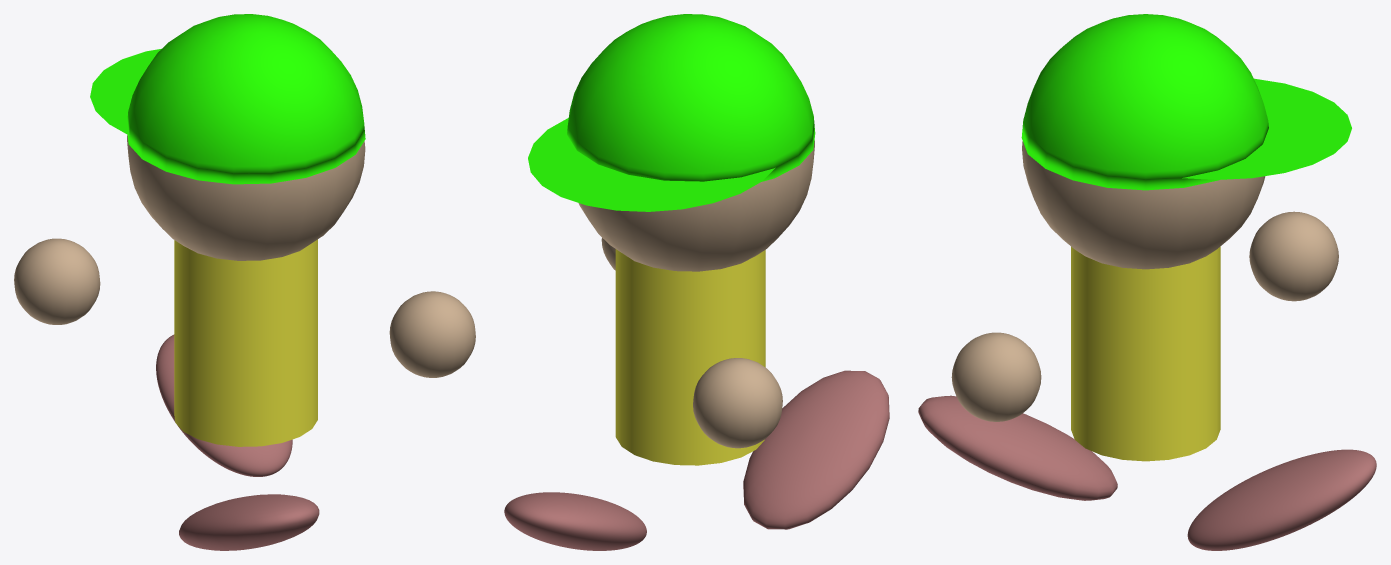
File: Player2Migi.fbx
The picture shows the model from 3 angles, left to right: view 1: azimuth 30°, elevation 25°; view 2: azimuth 150°, elevation 25°; view 3: azimuth 270°, elevation 25°; orthographic projection. The views are drawn at different scales.
Visible parts, largest first — view 1: pSphere7, pCylinder1, pSphere1, pSphere3, pSphere2, pSphere5, pSphere6, pDisc1; view 2: pSphere7, pCylinder1, pSphere3, pSphere1, pDisc1, pSphere5, pSphere6; view 3: pSphere7, pCylinder1, pSphere1, pSphere6, pSphere3, pDisc1, pSphere2, pSphere5.
Part boxes in pixels (left/top/right/bottom): pSphere7: left=127, top=14, right=365, bottom=184; pCylinder1: left=174, top=239, right=317, bottom=446; pSphere1: left=127, top=135, right=365, bottom=260; pSphere3: left=179, top=494, right=319, bottom=550; pSphere2: left=389, top=291, right=475, bottom=377; pSphere5: left=14, top=238, right=100, bottom=324; pSphere6: left=156, top=334, right=292, bottom=476; pDisc1: left=90, top=48, right=161, bottom=135; pSphere7: left=567, top=14, right=815, bottom=181; pCylinder1: left=615, top=249, right=765, bottom=465; pSphere3: left=743, top=370, right=889, bottom=529; pSphere1: left=578, top=140, right=814, bottom=271; pDisc1: left=528, top=118, right=775, bottom=211; pSphere5: left=693, top=358, right=782, bottom=448; pSphere6: left=504, top=492, right=646, bottom=550; pSphere7: left=1021, top=14, right=1268, bottom=190; pCylinder1: left=1071, top=246, right=1220, bottom=461; pSphere1: left=1022, top=141, right=1265, bottom=269; pSphere6: left=1187, top=449, right=1376, bottom=550; pSphere3: left=918, top=395, right=1117, bottom=500; pDisc1: left=1182, top=78, right=1351, bottom=179; pSphere2: left=951, top=332, right=1041, bottom=421; pSphere5: left=1249, top=211, right=1338, bottom=301.
Size of the model in its own units: 0.7075 by 1.06 by 0.8869.
